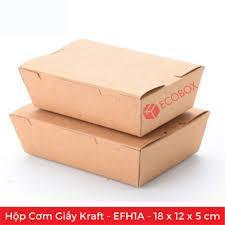box: (10, 82, 211, 188), (18, 38, 206, 137)
